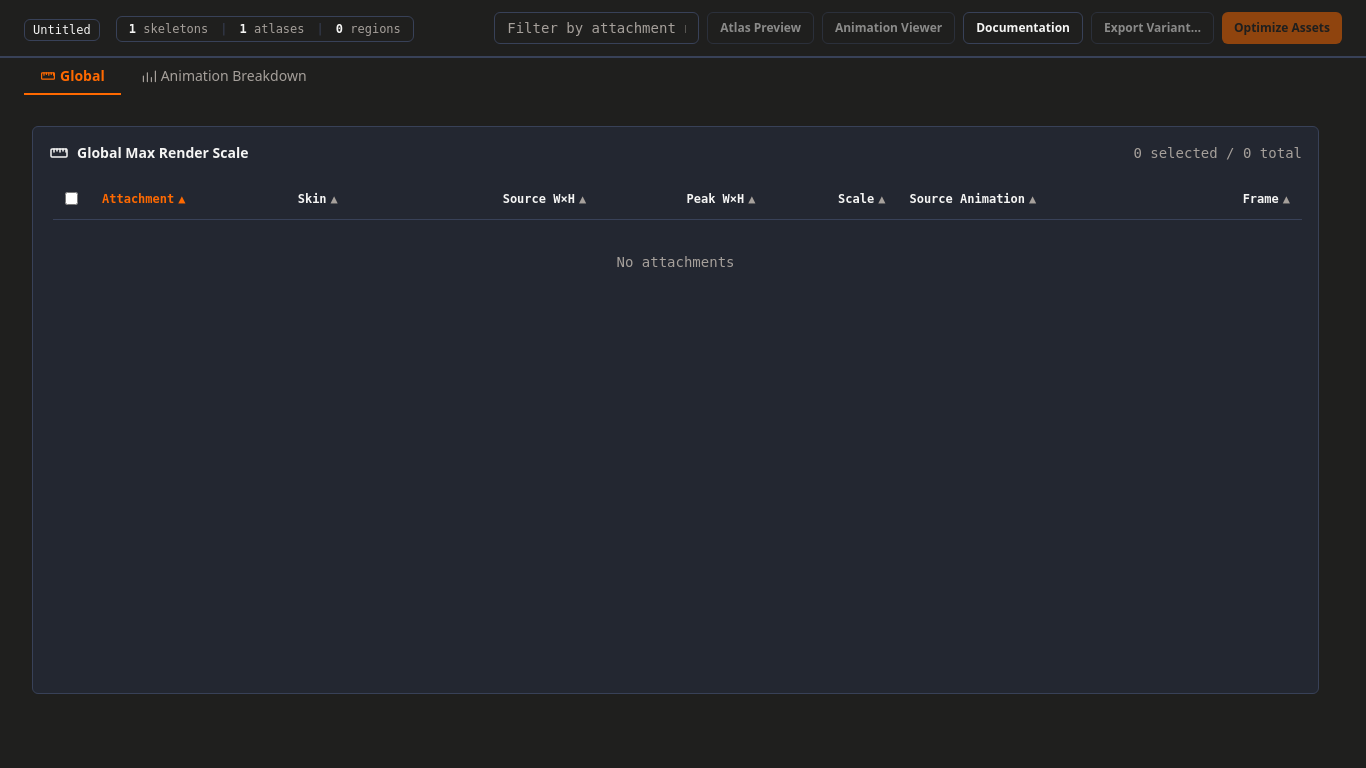
Test: RigInfoTooltip — Wave 4 (Claude Discretion: rig-info on filename chip) › hover filename chip: tooltip becomes visible with skeletonName + bones/slots/attachments/animations/skins counts matching summary
Step 1. Hover over the element with test id "rig-info-host" → (62, 28), box top-left (24, 16), bottom-right (100, 40)
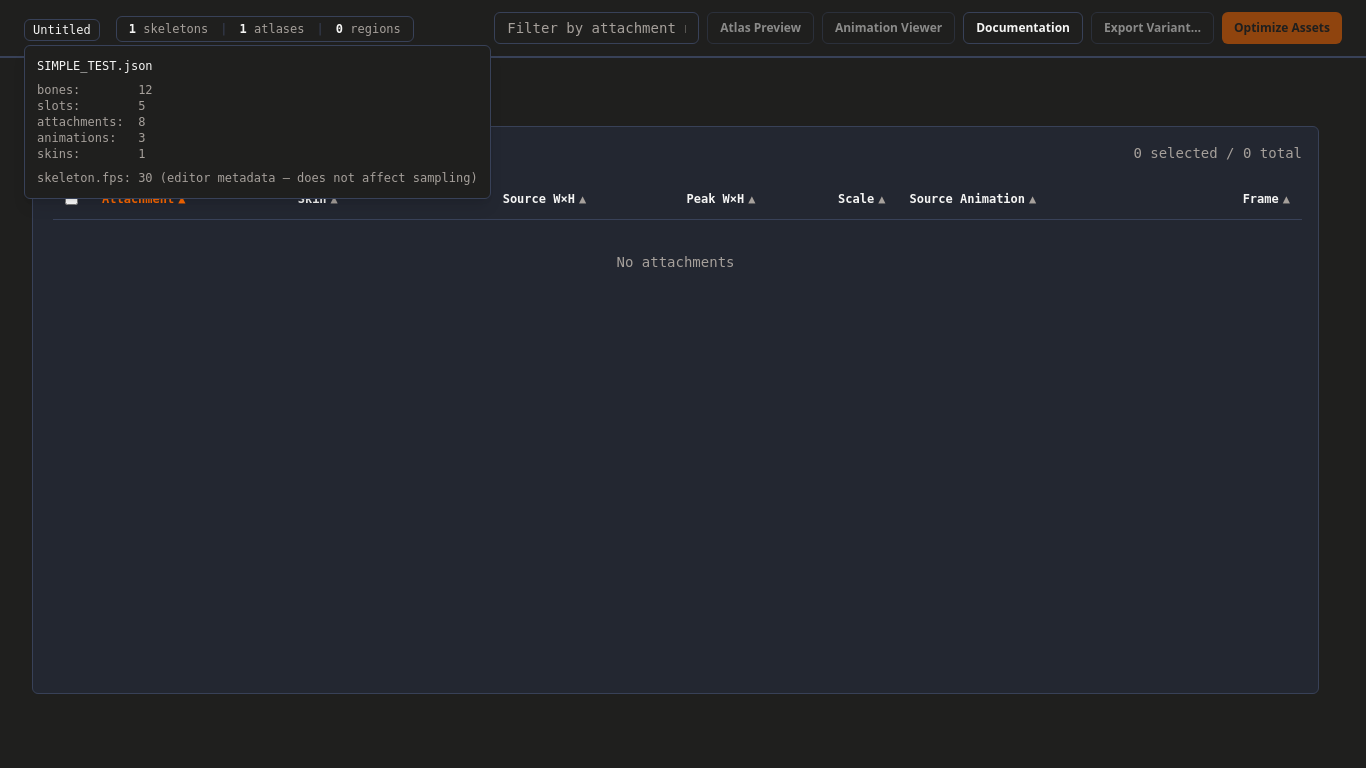
Expected: the tooltip shows "SIMPLE_TEST.json", top-left (37, 58), bottom-right (153, 72)
Note: Leaving the host hides the tooltip again.
Step 2. Move the pointer off the element with test id "rig-info-host", box top-left (24, 16), bottom-right (100, 40)
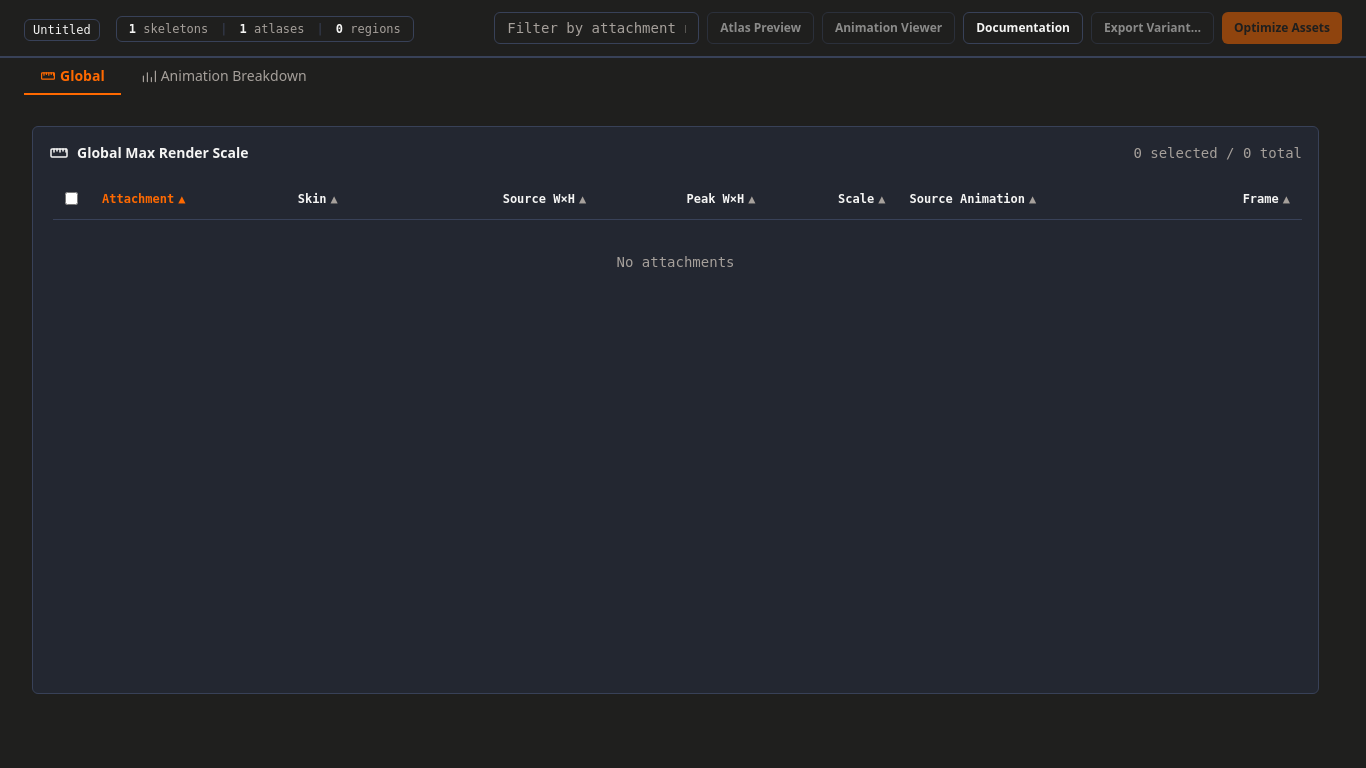
Expected: the tooltip is gone
